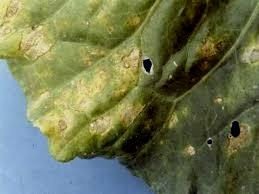Bok-Choy-Diseased: (31, 3, 259, 172)
